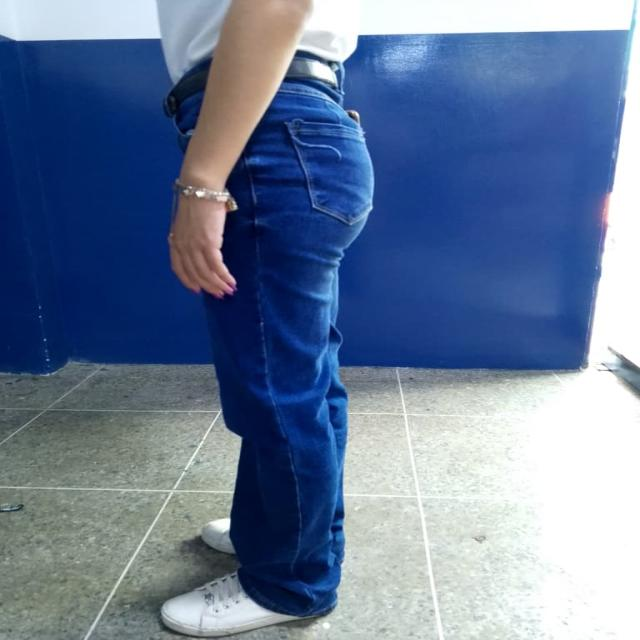pantalon_oscuro: (172, 76, 376, 616)
